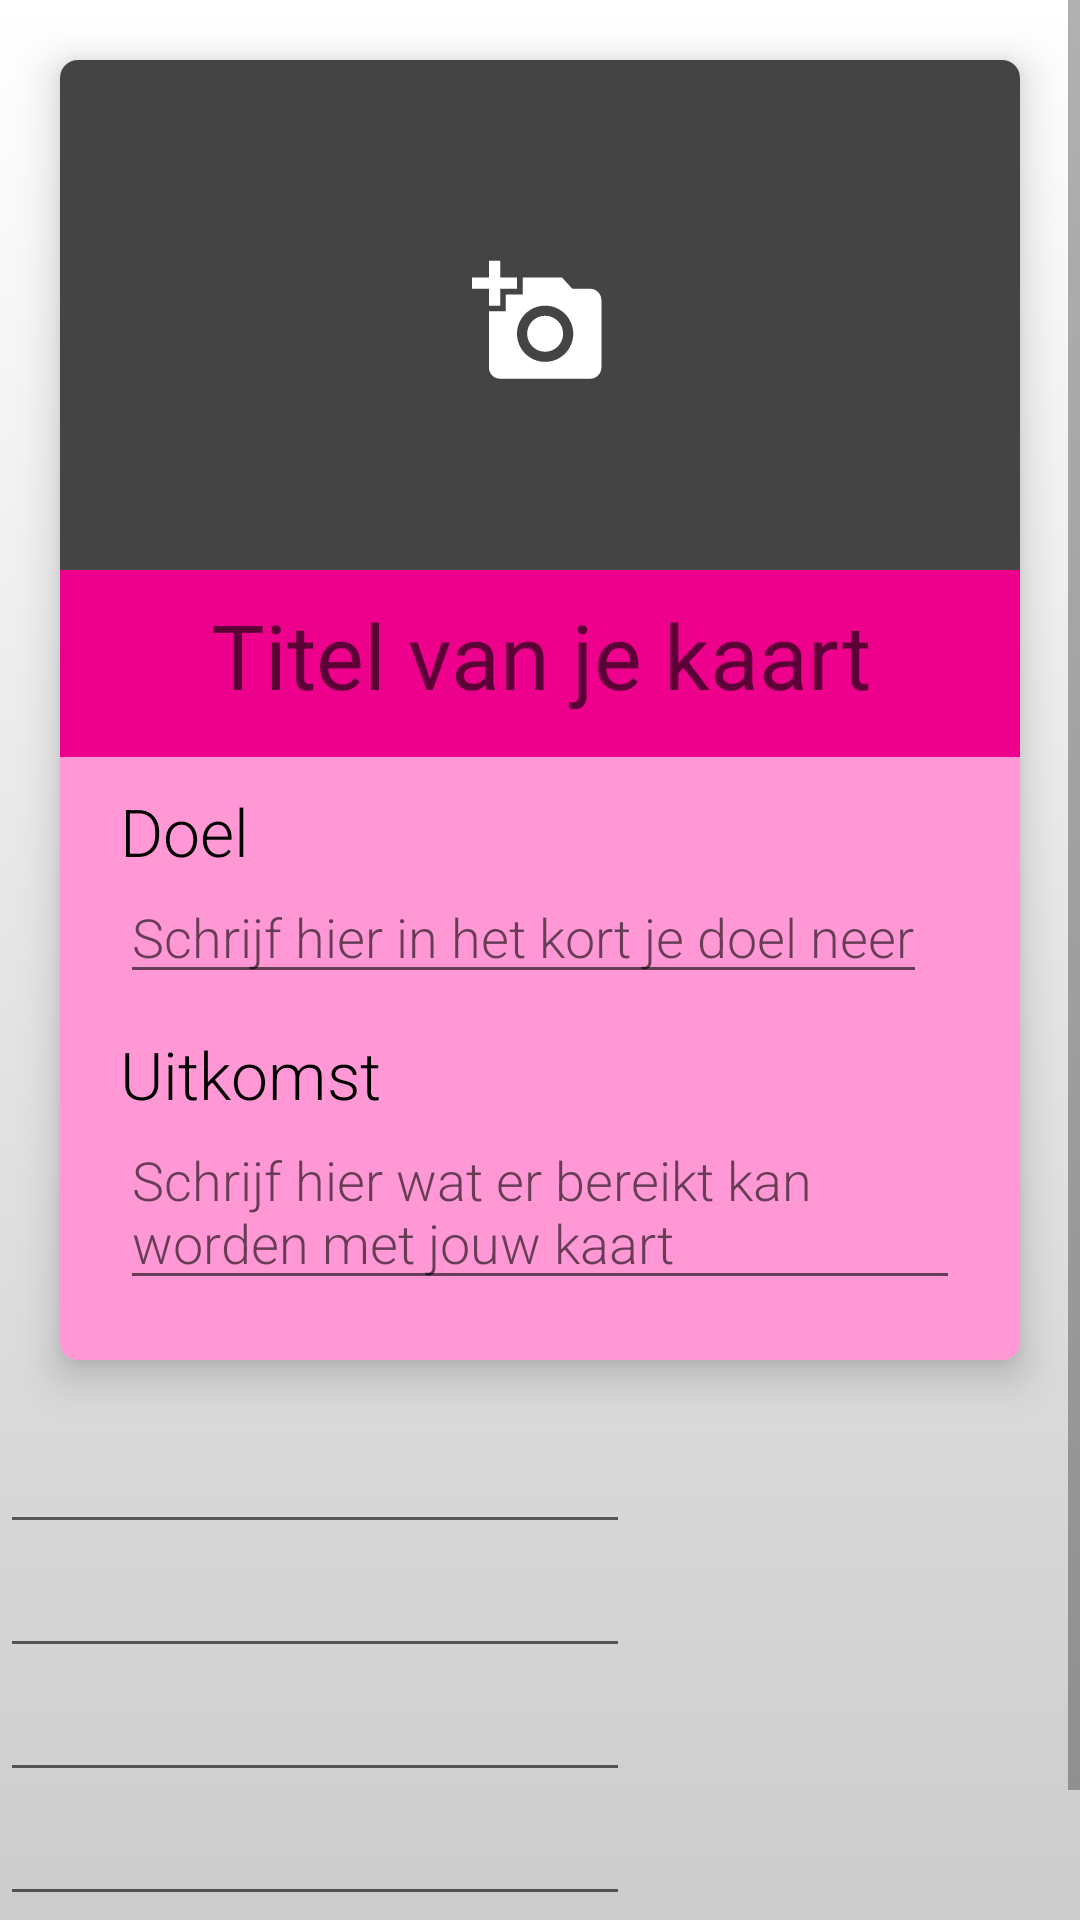

Icons on this 1080x1920 Android screen, each with its box as [x1=x1, y1=y1, x2=x2, y2=y2]:
add photo: [x1=472, y1=260, x2=602, y2=379]
